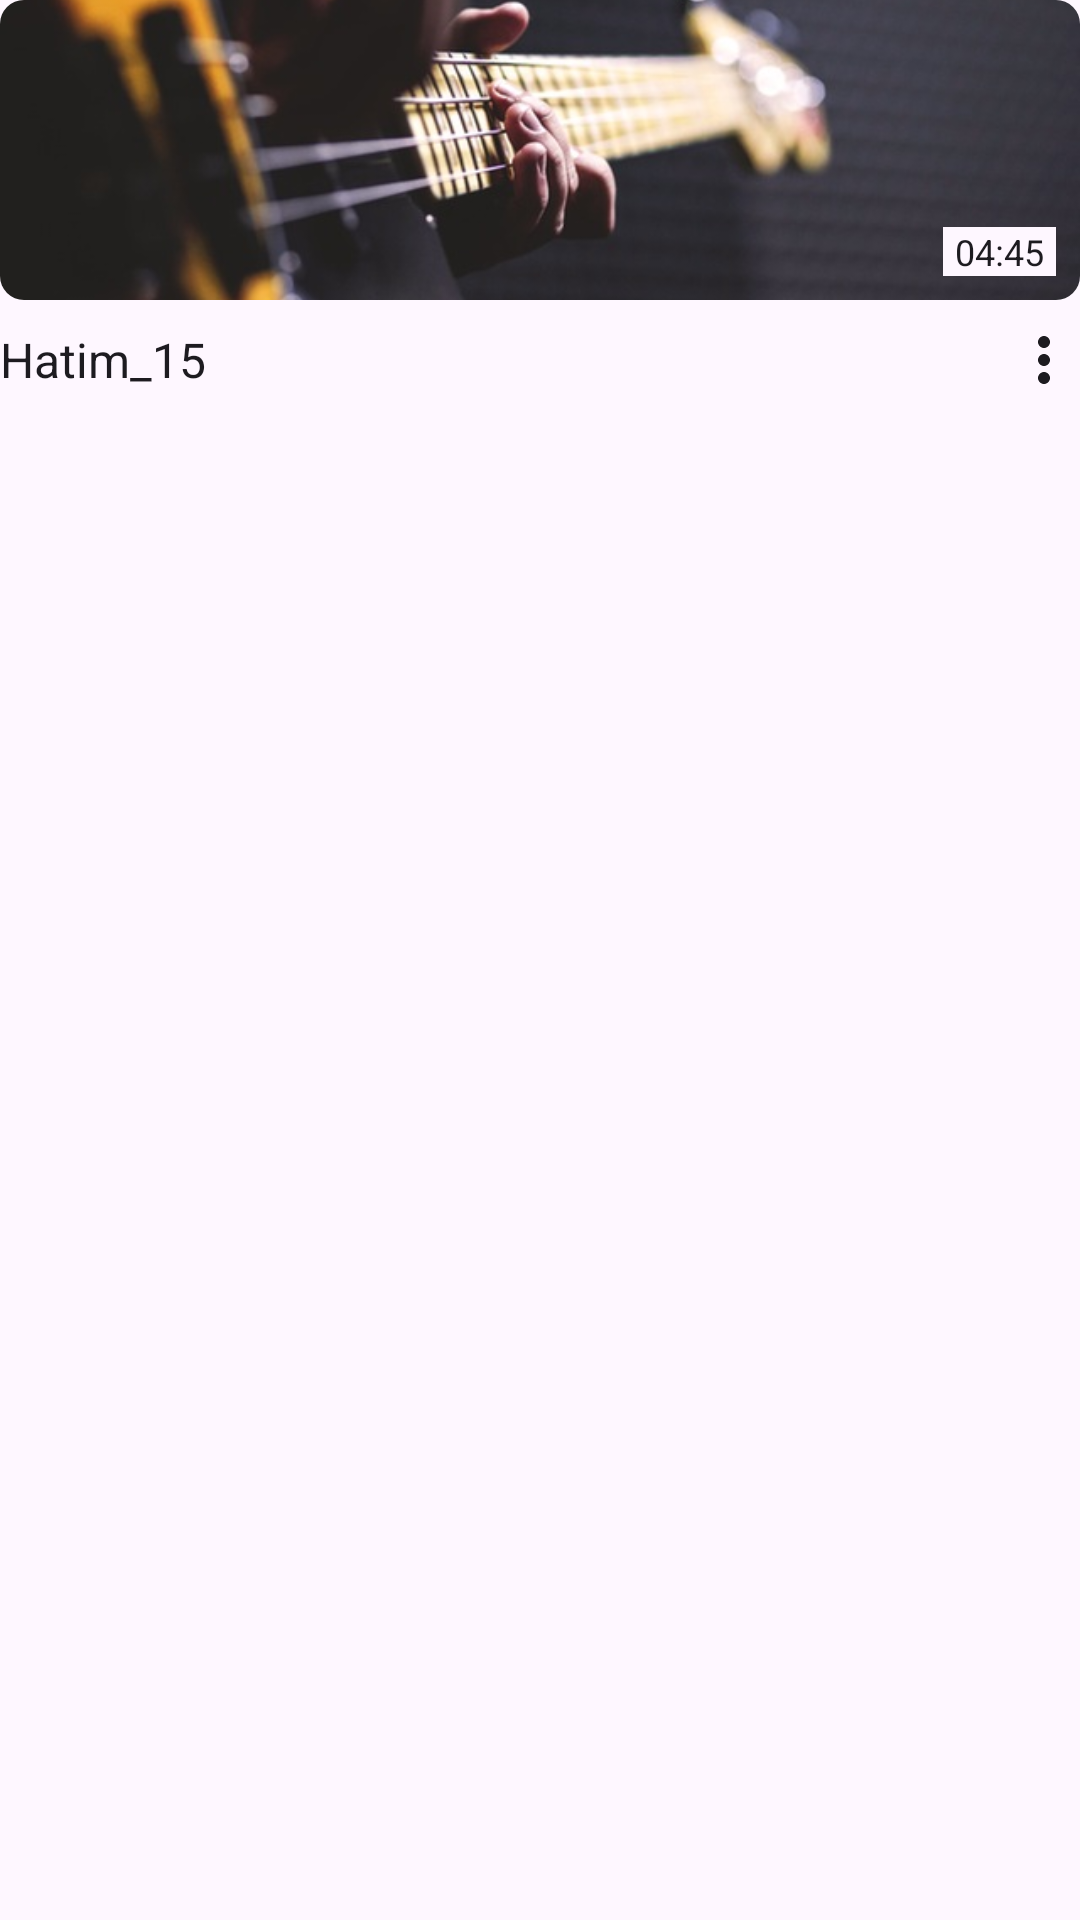

Where to tap for icons on this 1080x1920 app screen, as (x,y):
more vert: (1044,360)
